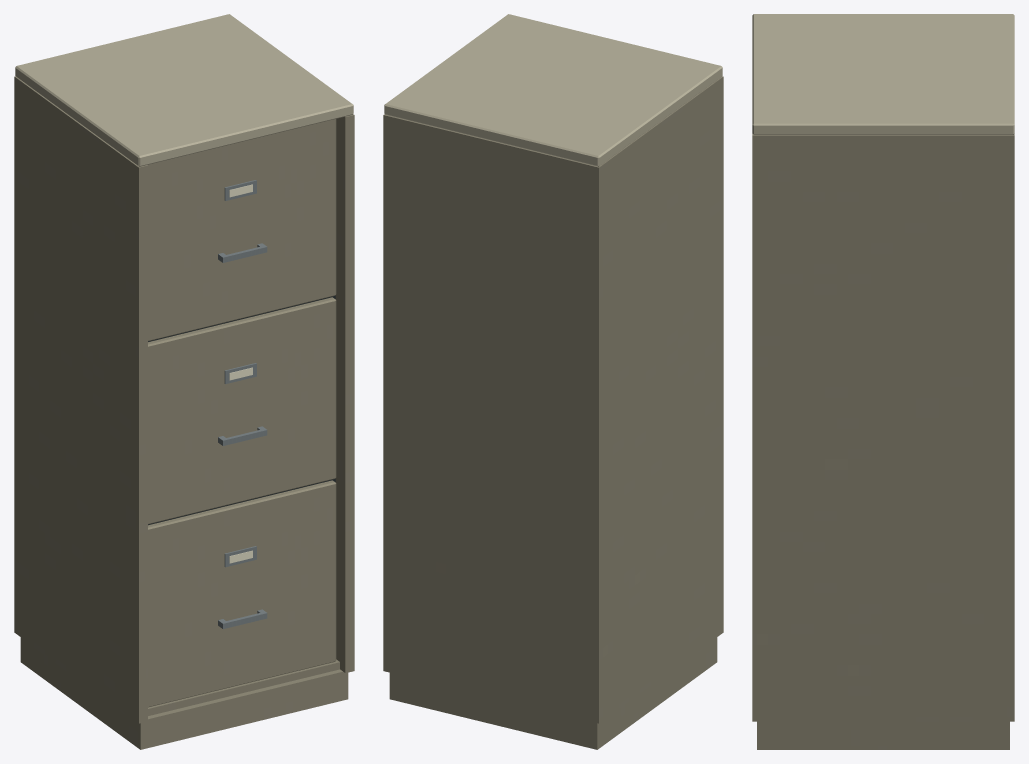
The model's file is office_filing_cabinet_tall.glb.
3 renders of one model, left to right at view 1: azimuth 30°, elevation 25°; view 2: azimuth 150°, elevation 25°; view 3: azimuth 270°, elevation 25°, orthographic. The views are drawn at different scales.
Parts seen in each view (by area): view 1: core_office_filing_cabinet_tall; view 2: core_office_filing_cabinet_tall; view 3: core_office_filing_cabinet_tall.
Boxes of the visible parts, x1,y1,x2,y2 form: core_office_filing_cabinet_tall: [14, 14, 354, 749]; core_office_filing_cabinet_tall: [383, 14, 723, 749]; core_office_filing_cabinet_tall: [752, 14, 1014, 749].
Size of the model in its own units: 0.5 by 1.32 by 0.5.
Materials: 5 (5 with a texture image).
